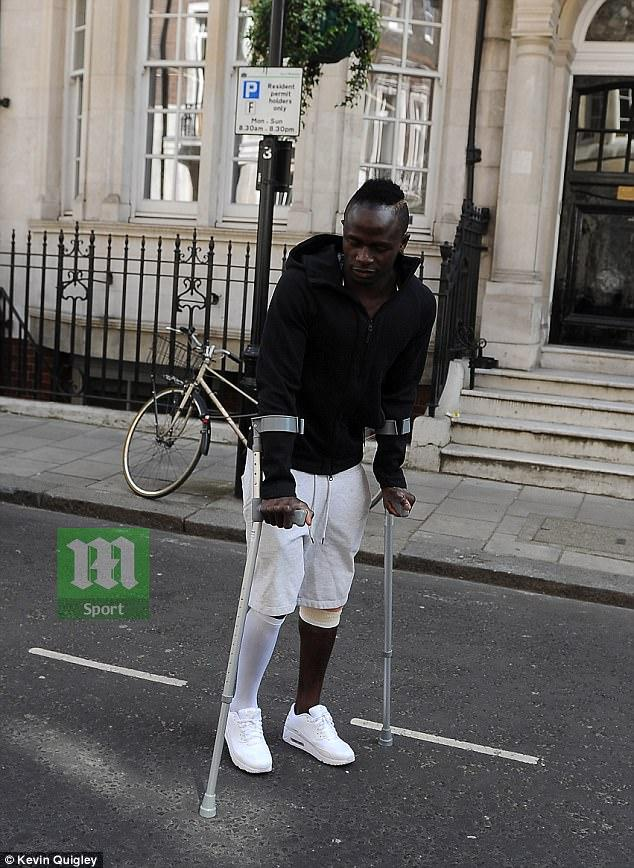crutches: (198, 177, 438, 818)
